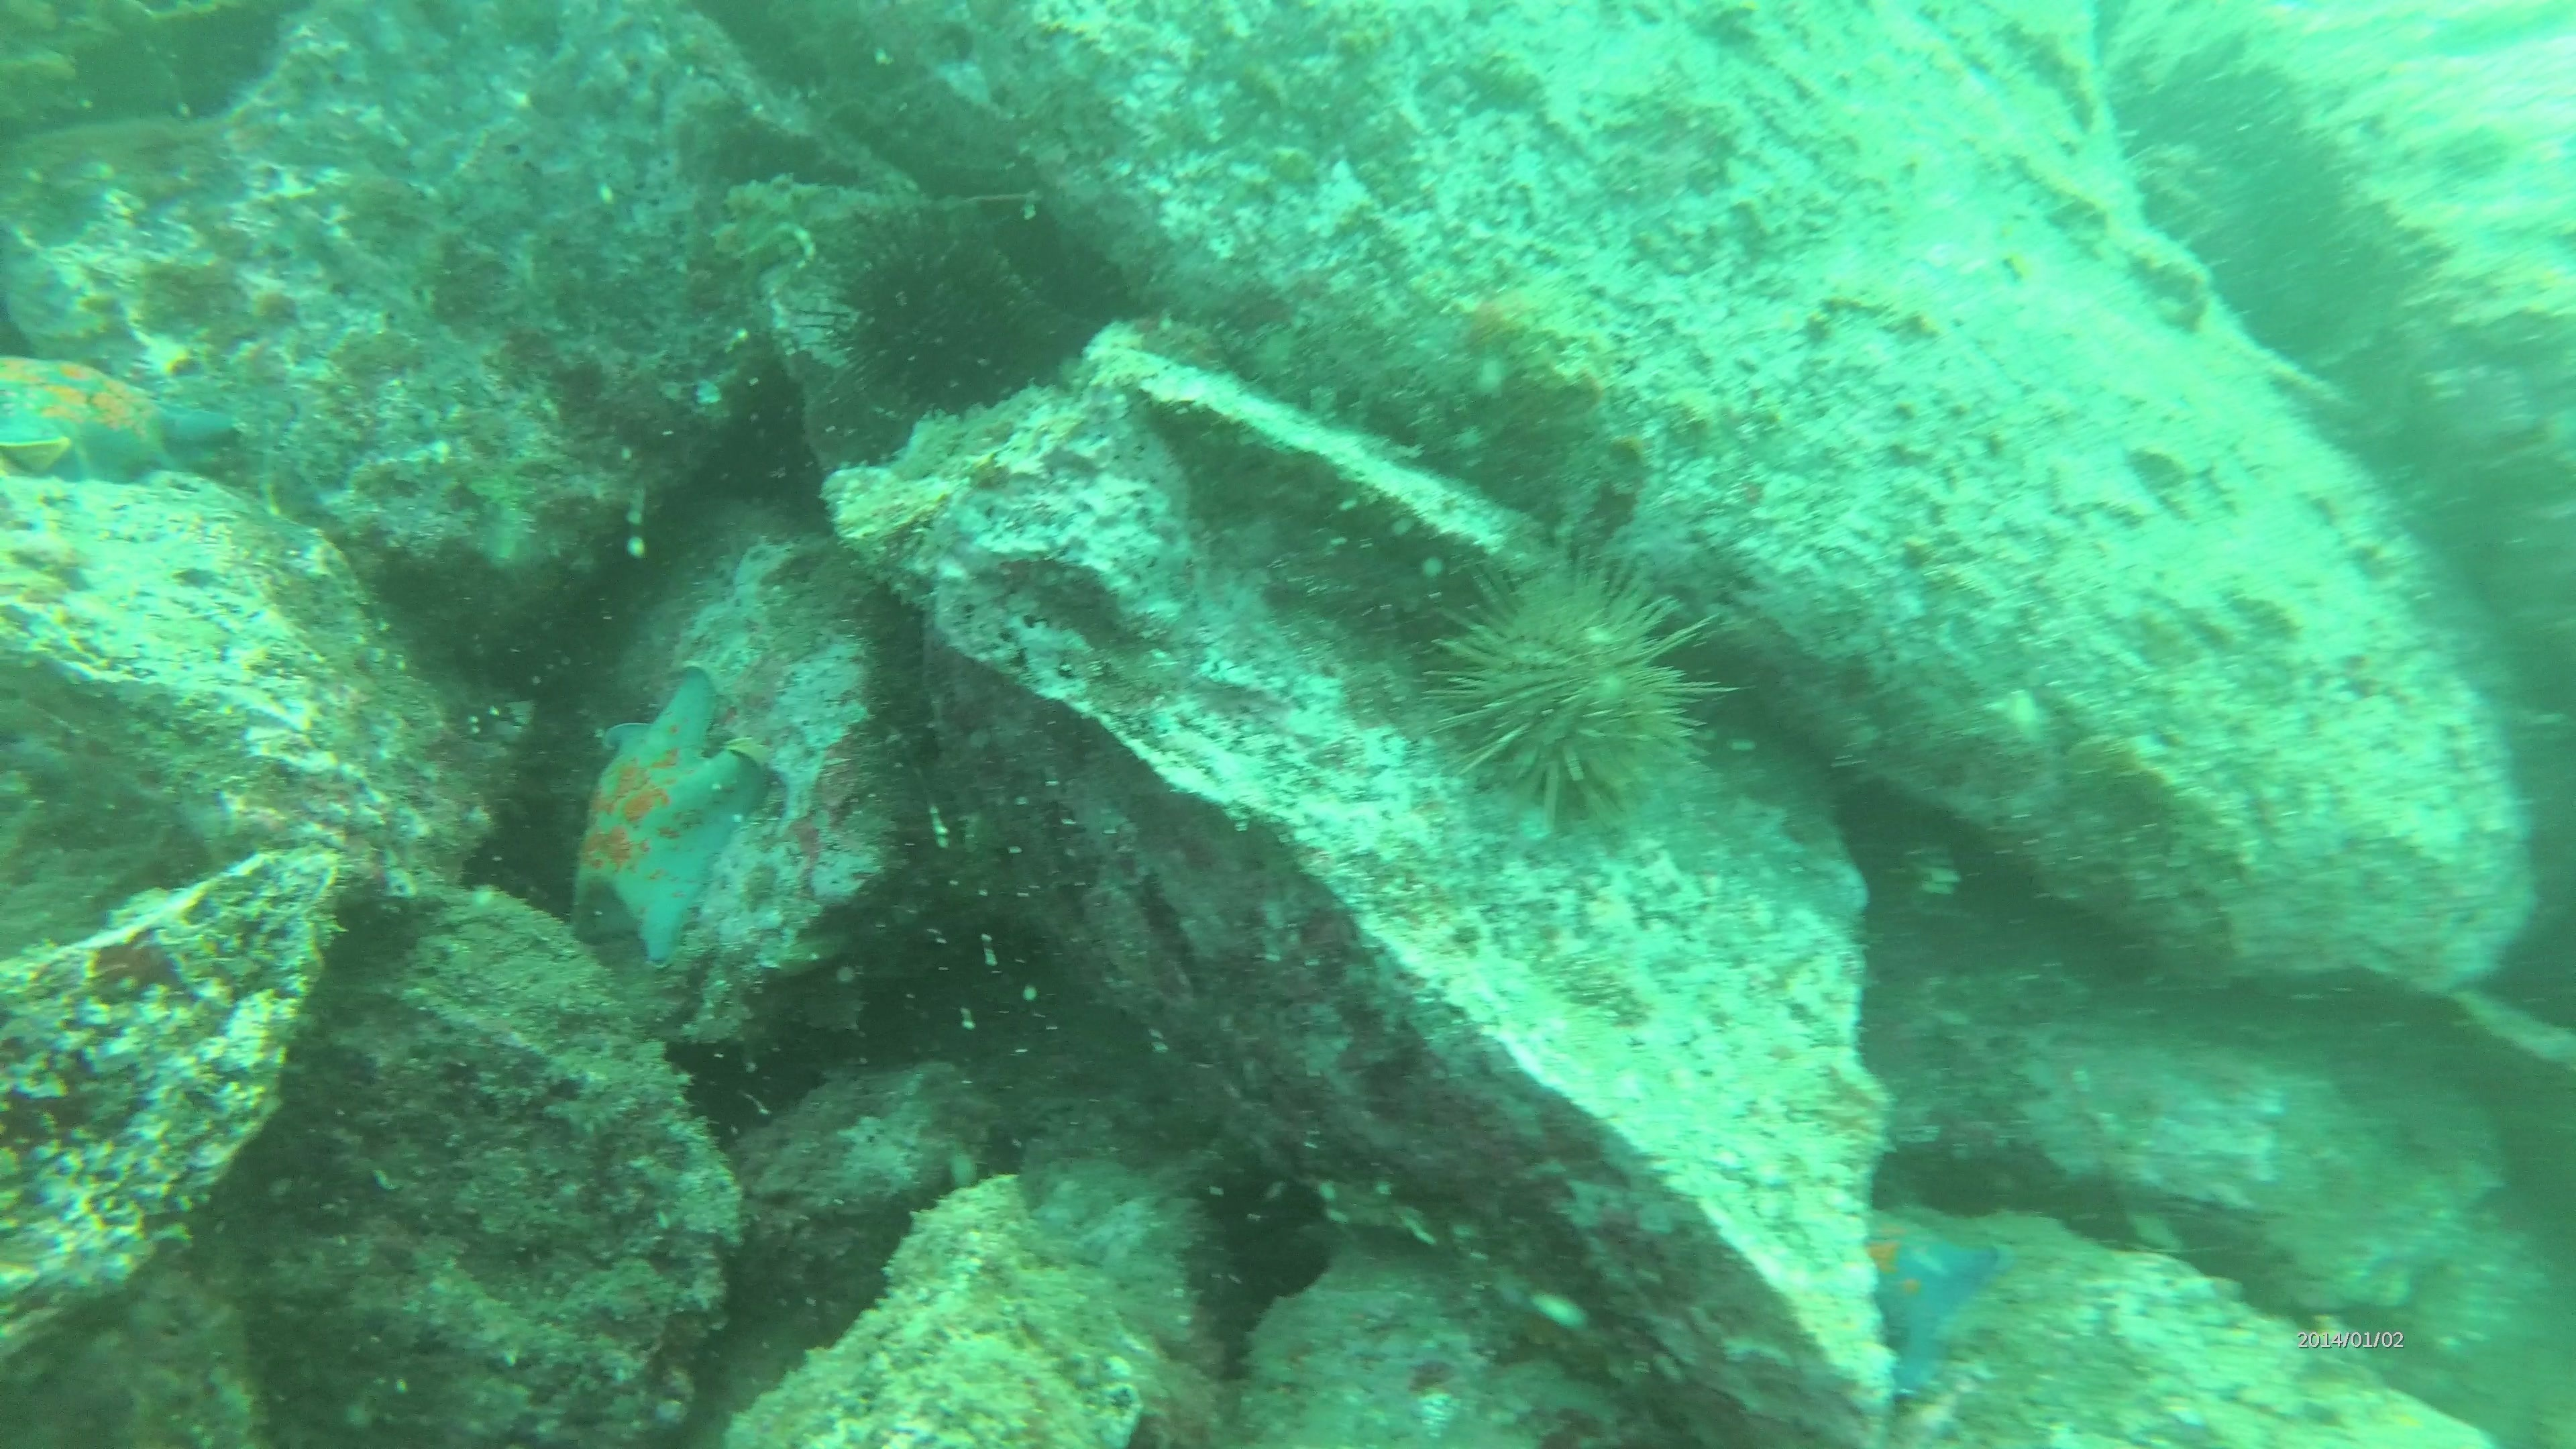echinus: (1415, 550, 1729, 837), (823, 218, 1047, 421)
starfish: (563, 665, 763, 970), (0, 347, 248, 492), (1849, 1200, 2012, 1407)
